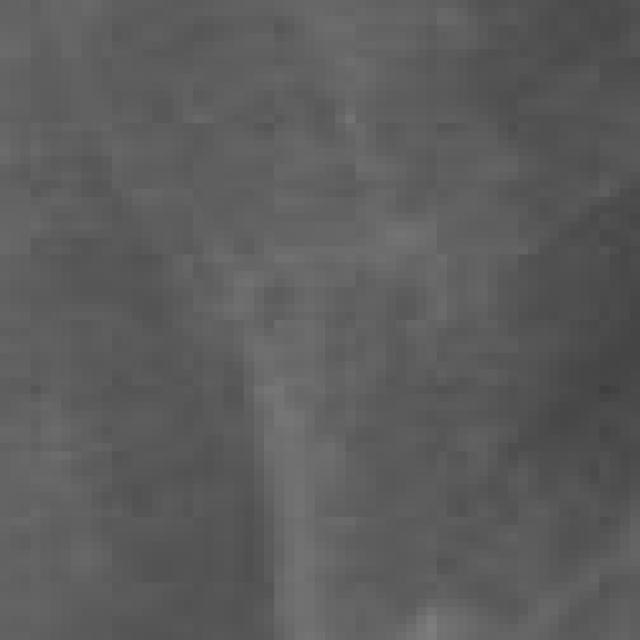fracture: (2, 0, 640, 640)
